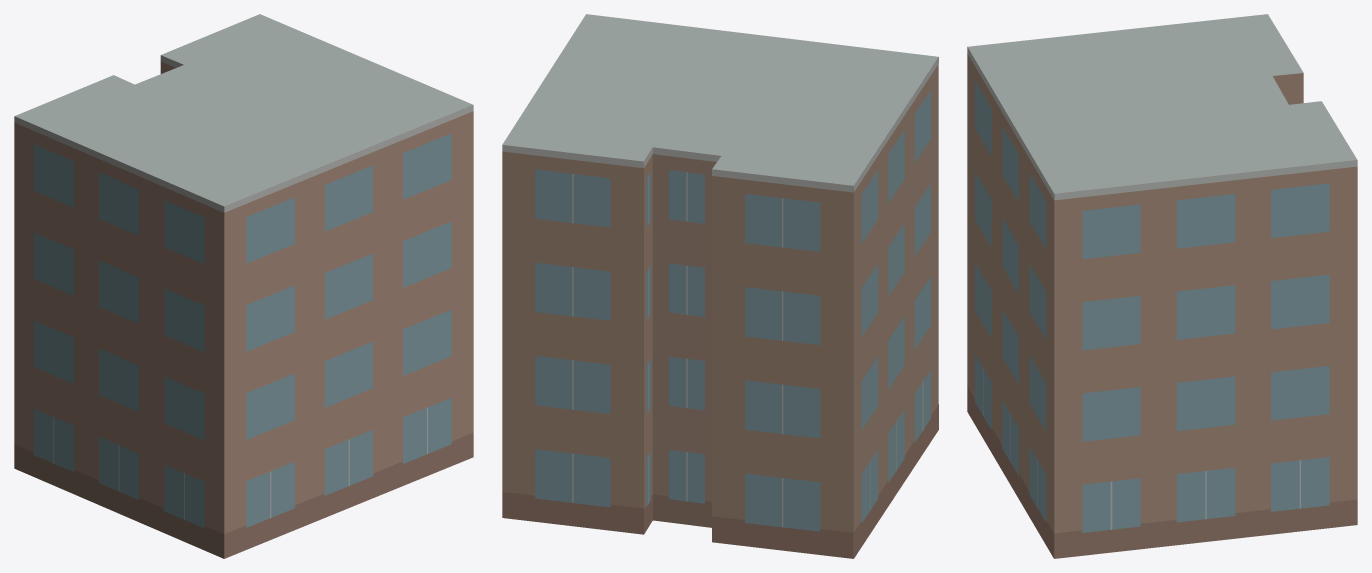
Rendered from survey-upis-33006731.glb.
3 views of the same model, side by side, from view 1: azimuth 30°, elevation 25°; view 2: azimuth 150°, elevation 25°; view 3: azimuth 270°, elevation 25° (orthographic). The views are drawn at different scales.
Visible parts, largest first — view 1: survey-upis-33006731.tmp; view 2: survey-upis-33006731.tmp; view 3: survey-upis-33006731.tmp.
Part boxes in pixels (x1,y1,x2,y2): survey-upis-33006731.tmp: (14, 14, 473, 558); survey-upis-33006731.tmp: (502, 14, 938, 558); survey-upis-33006731.tmp: (967, 14, 1357, 558).
Size of the model in its own units: 14.39 by 13.6 by 13.18.
